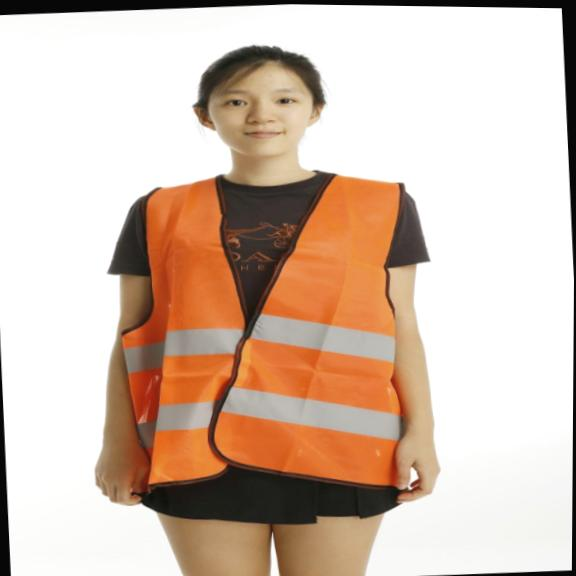safety_vest: (111, 168, 421, 503)
